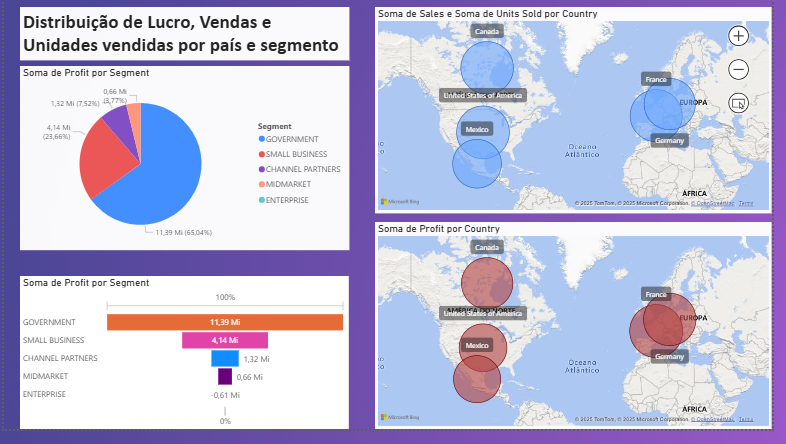

Layout of this report page (visuals, bound fields, positions):
{"tool":"powerbi","page":{"name":"Página 3","canvas":[1280,720],"ordinal":2},"visuals":[{"type":"pieChart","fields":{"Category":["financials.Segment"],"Y":["Sum(financials.Profit)"]},"box":[26.3,115.6,548.8,307.3],"z":0},{"type":"map","fields":{"Category":["financials.Country"],"Size":["Sum(financials. Sales)"]},"box":[618.7,16.5,661.3,343.7],"z":1000},{"type":"map","fields":{"Category":["financials.Country"],"Size":["Sum(financials.Profit)"]},"box":[618.7,375.3,661.3,345.1],"z":2000},{"type":"textbox","box":[26.3,16.1,548.8,89.3],"z":3000},{"type":"funnel","fields":{"Category":["financials.Segment"],"Y":["Sum(financials.Profit)"]},"box":[26,465,548.4,255.7],"z":4001}]}

Visuals, with their boxes in screenshot pixels (x1, y1, x2, y2), scaled from the page's 1280x720 canvas onto the 786x444 screenshot:
pieChart - financials.Segment x Sum(financials.Profit): (16,71,353,261)
map - financials.Country x Sum(financials. Sales): (380,10,785,222)
map - financials.Country x Sum(financials.Profit): (380,231,785,443)
textbox: (16,10,353,65)
funnel - financials.Segment x Sum(financials.Profit): (16,287,353,443)
